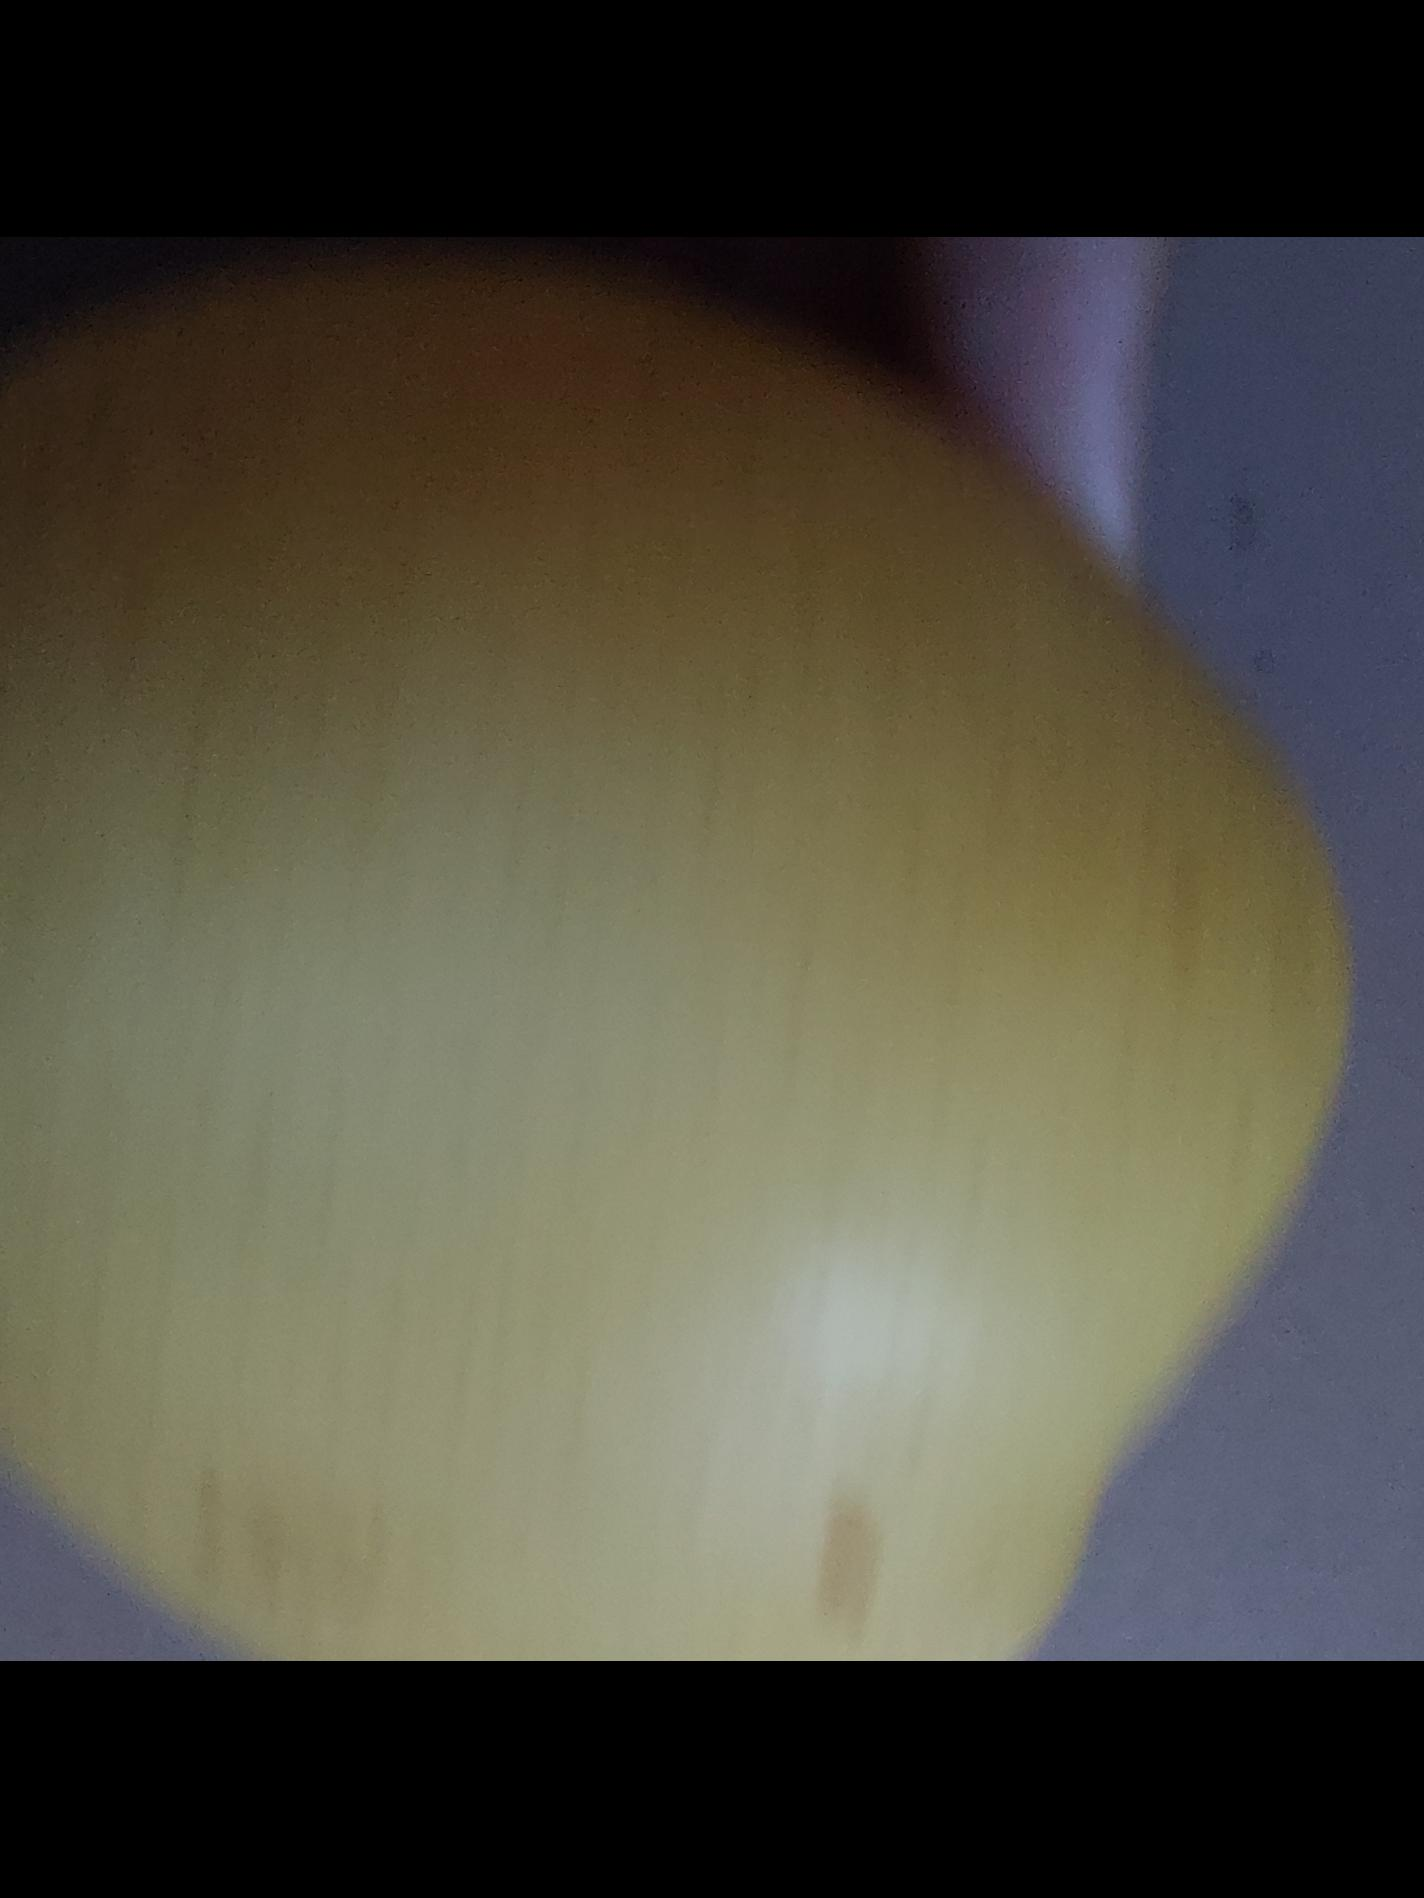Good Pear: (0, 263, 1346, 1662)
